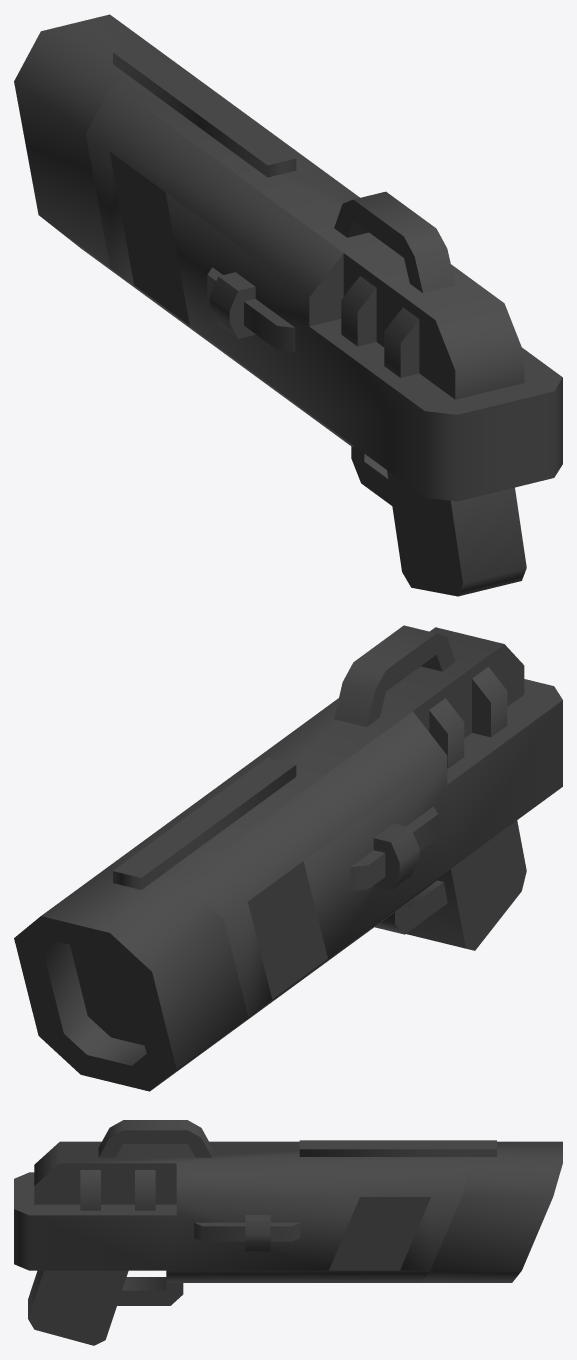
File: blaster-h.glb
The picture shows the model from 3 angles, top to bottom: view 1: azimuth 30°, elevation 25°; view 2: azimuth 150°, elevation 25°; view 3: azimuth 270°, elevation 25°; orthographic projection. The views are drawn at different scales.
Parts seen in each view (by area): view 1: blaster-h; view 2: blaster-h; view 3: blaster-h.
Part boxes in pixels (box(x1,y1,x2,y2)): blaster-h: box(14, 14, 562, 596); blaster-h: box(14, 625, 562, 1091); blaster-h: box(14, 1120, 562, 1345).
Bounding box in the file's own units: 0.165 × 0.2745 × 0.648.
1 material, 1 textured.
